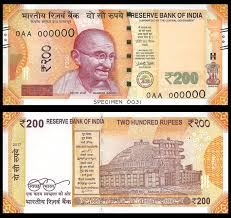twoHundred: (15, 23, 211, 92)
